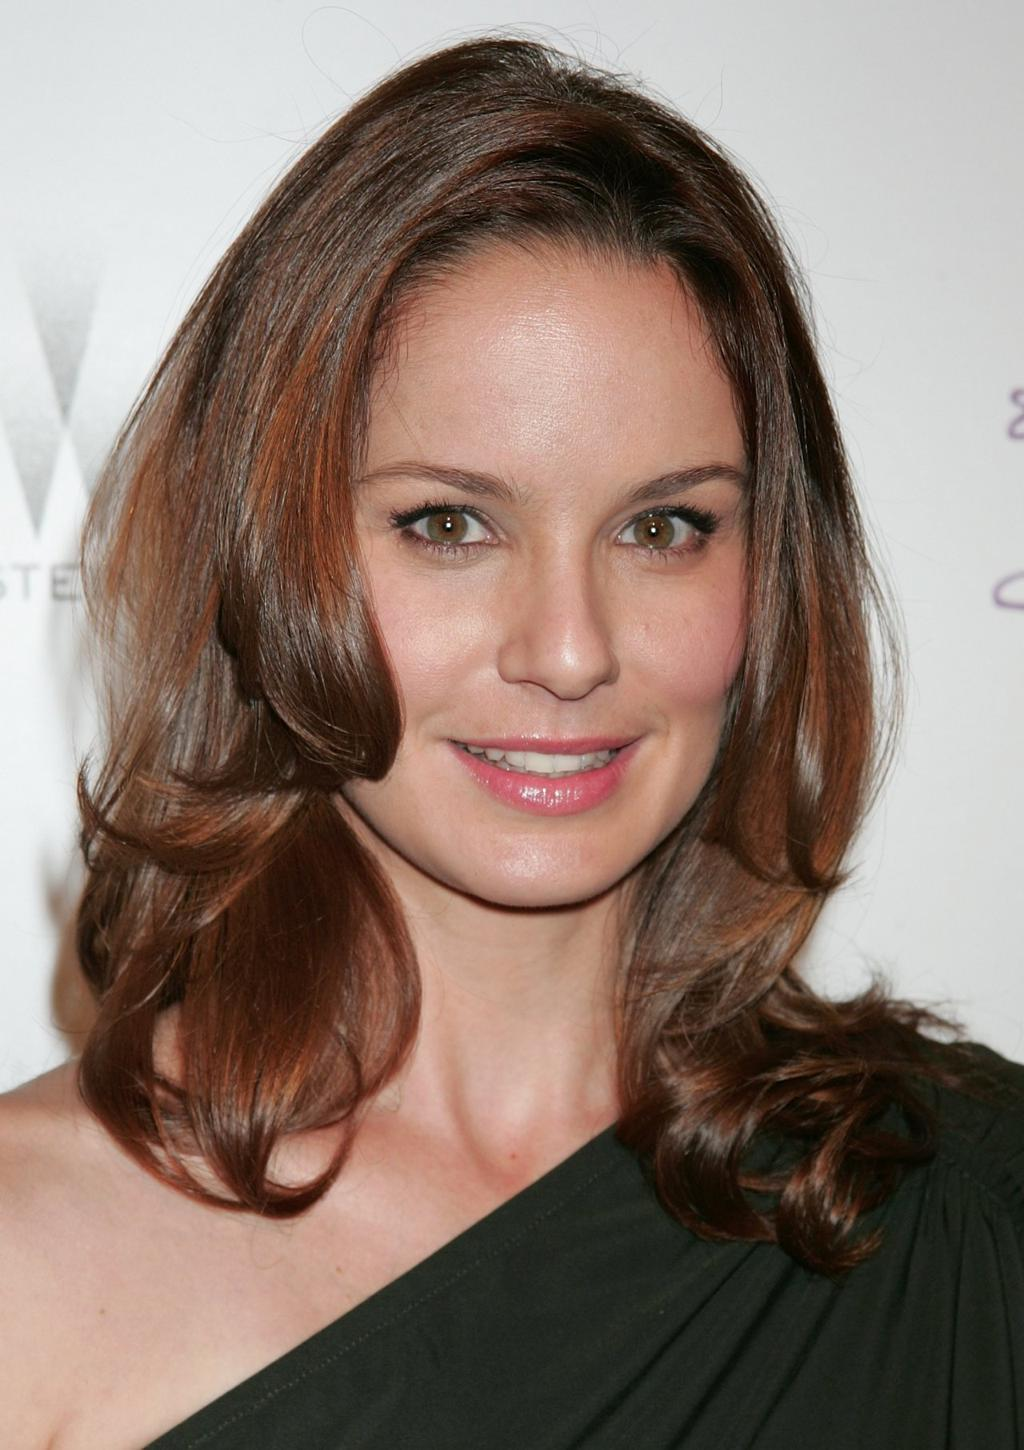face: (325, 240, 769, 902)
